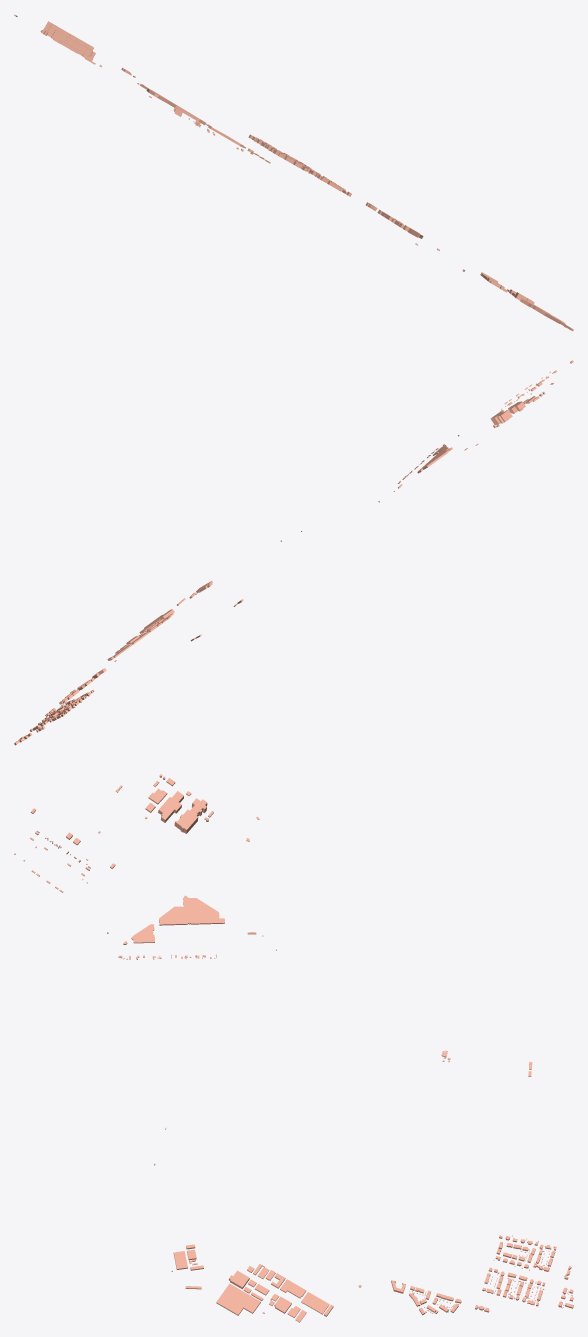
The picture shows the model from 3 angles, top to bottom: view 1: azimuth 30°, elevation 25°; view 2: azimuth 150°, elevation 25°; view 3: azimuth 270°, elevation 25°; orthographic projection. The views are drawn at different scales.
Bounding box in the file's own units: 1814 × 1441 × 2112.
